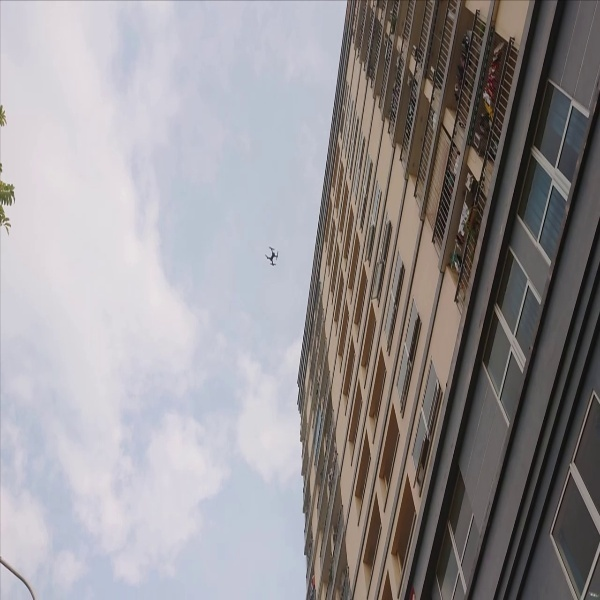drone: (263, 239, 283, 271)
